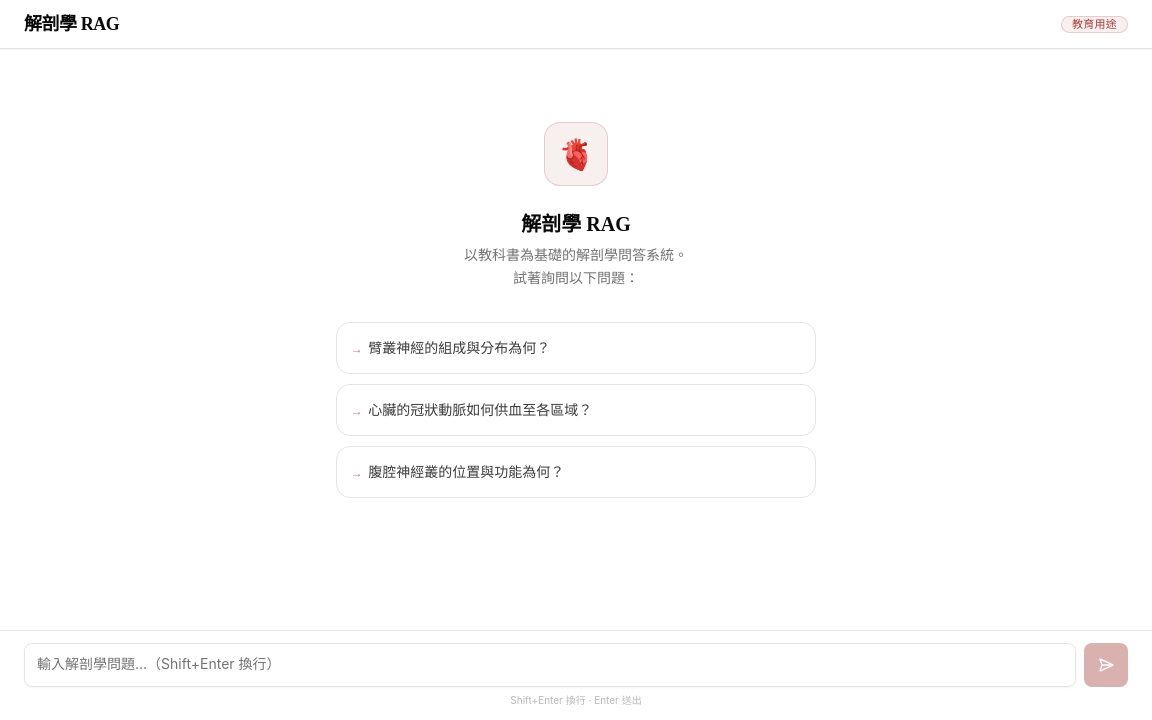
Scenario: ChatPanel integration › [L8] request body has conversation_id and fetch uses credentials:omit
Type "肱二頭肌" into the text box at (550, 665), box left=24, top=643, right=1076, bottom=687
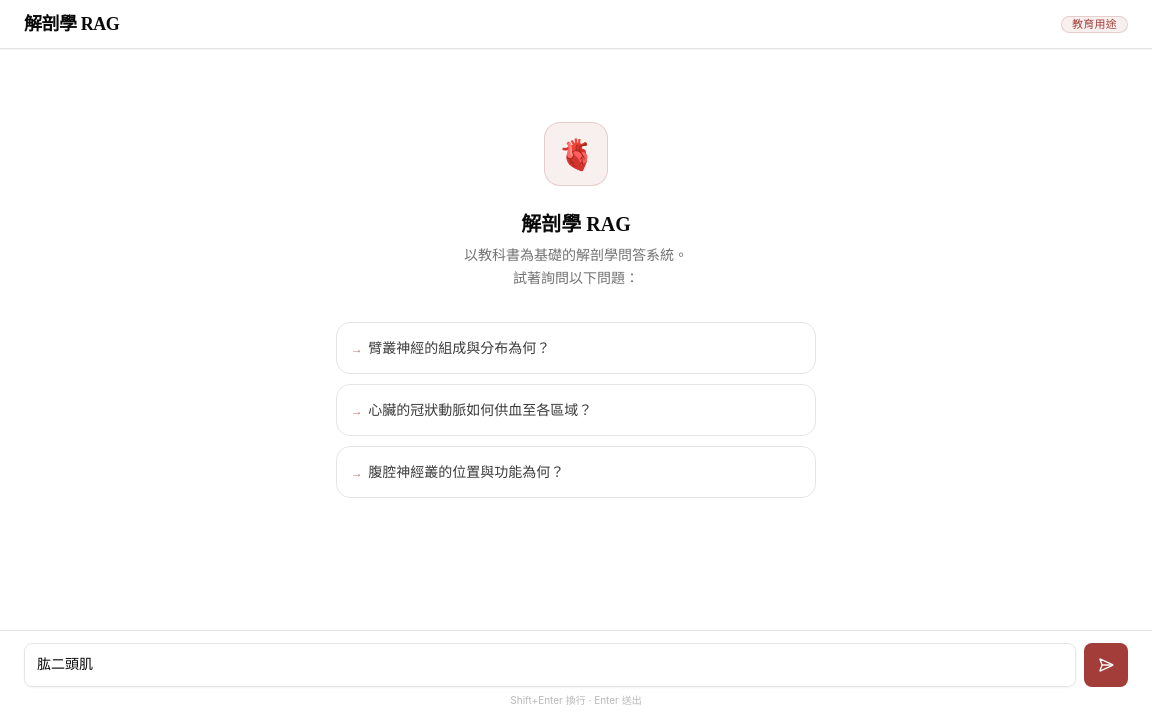
Click the button named "送出" at (1106, 665), box left=1084, top=643, right=1128, bottom=687
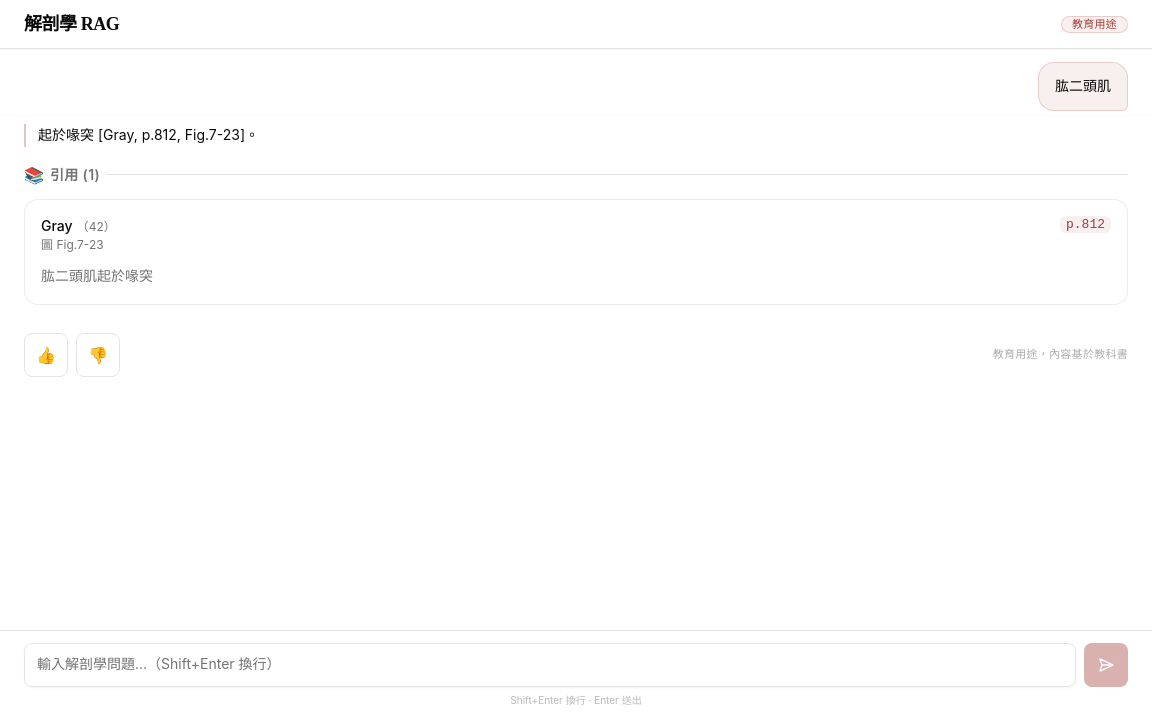
Check: the text "肱二頭肌起於喙突" is shown, box left=41, top=267, right=153, bottom=284
